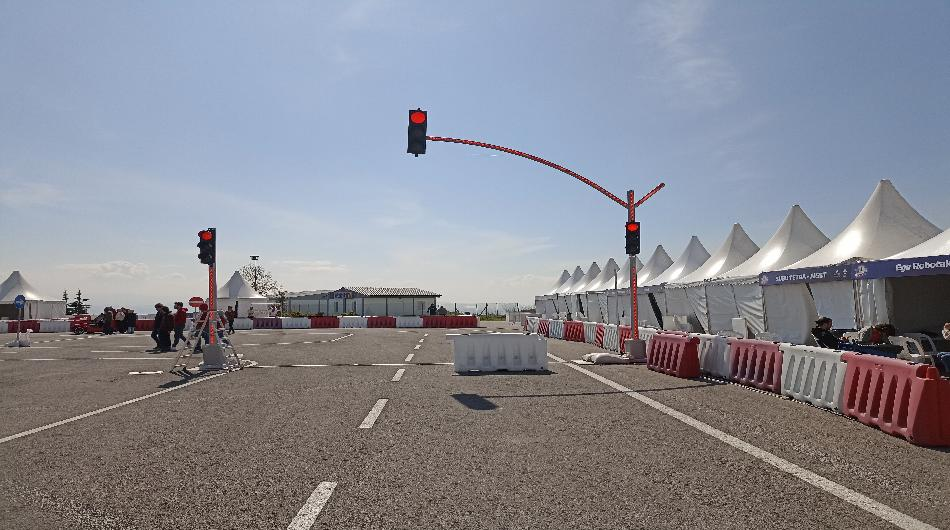red_light: (405, 105, 429, 159), (193, 226, 221, 263), (620, 222, 642, 257)
